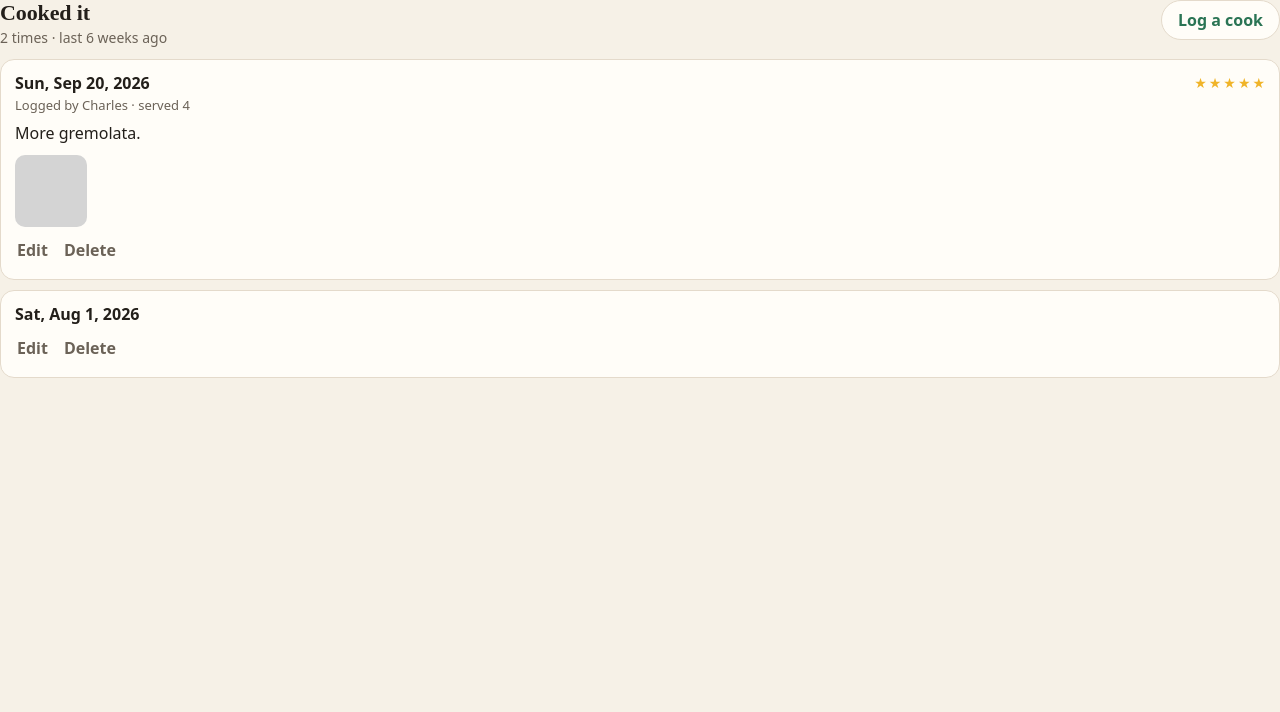
Test case: CookLog › logs a cook for today at the scaled servings by default, with a rating and notes
Step 1. Click the button "Log a cook" → (1220,20), box [1161,0,1279,40]
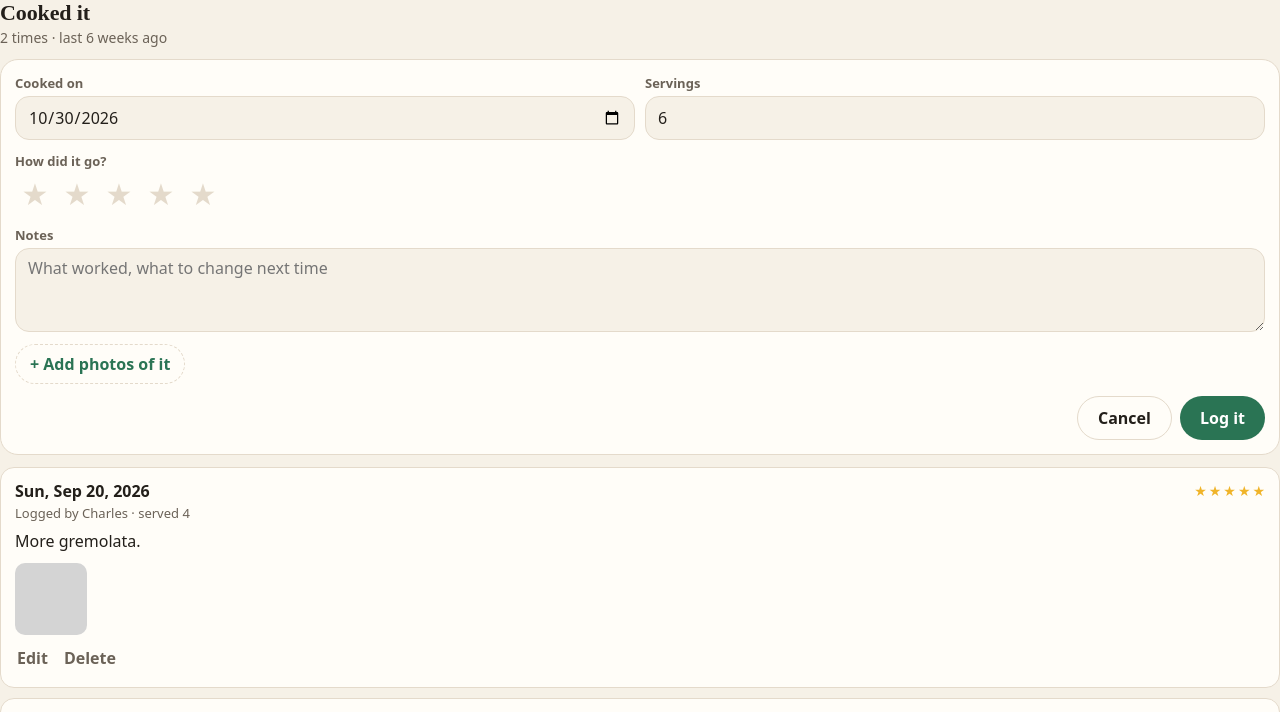
Expected: the number field labelled "Servings" holds "6", [645,96,1265,140]
Step 2. Click the button named "4 stars" → (161,194), box [141,174,181,214]
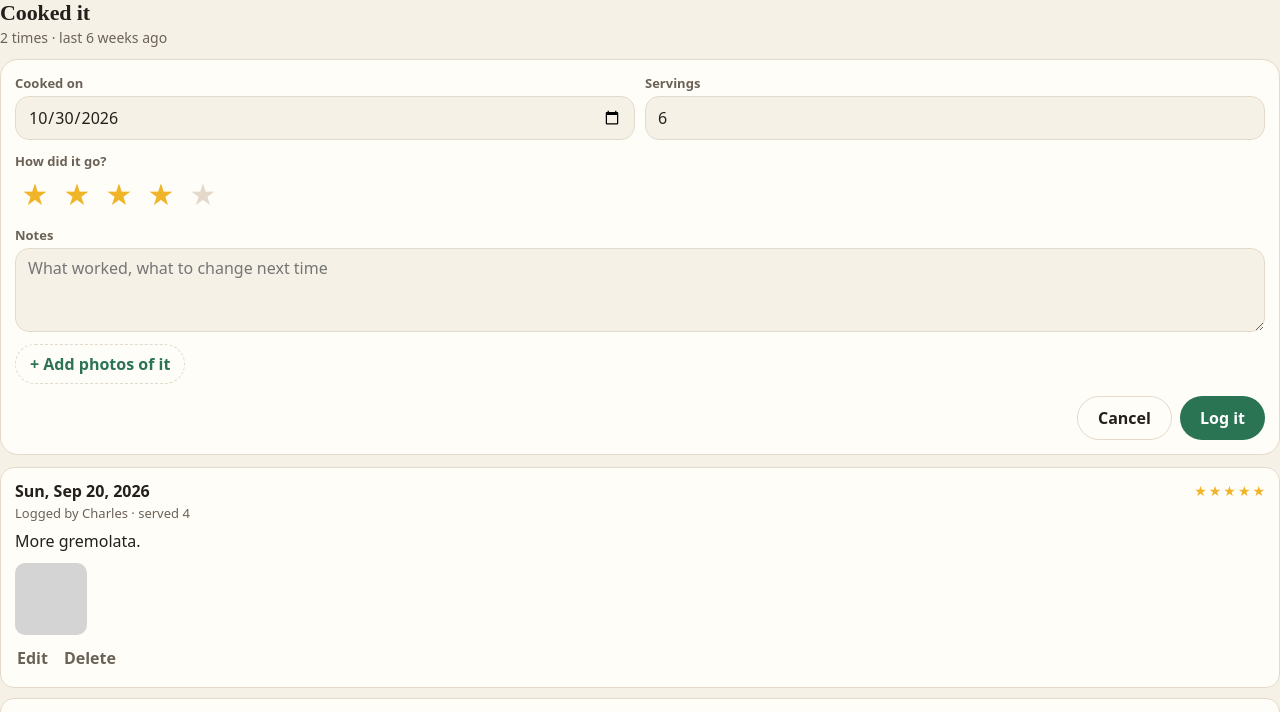
Step 3. Type " Less salt " into the text box labelled "Notes" → (640,290), box [15,248,1265,332]
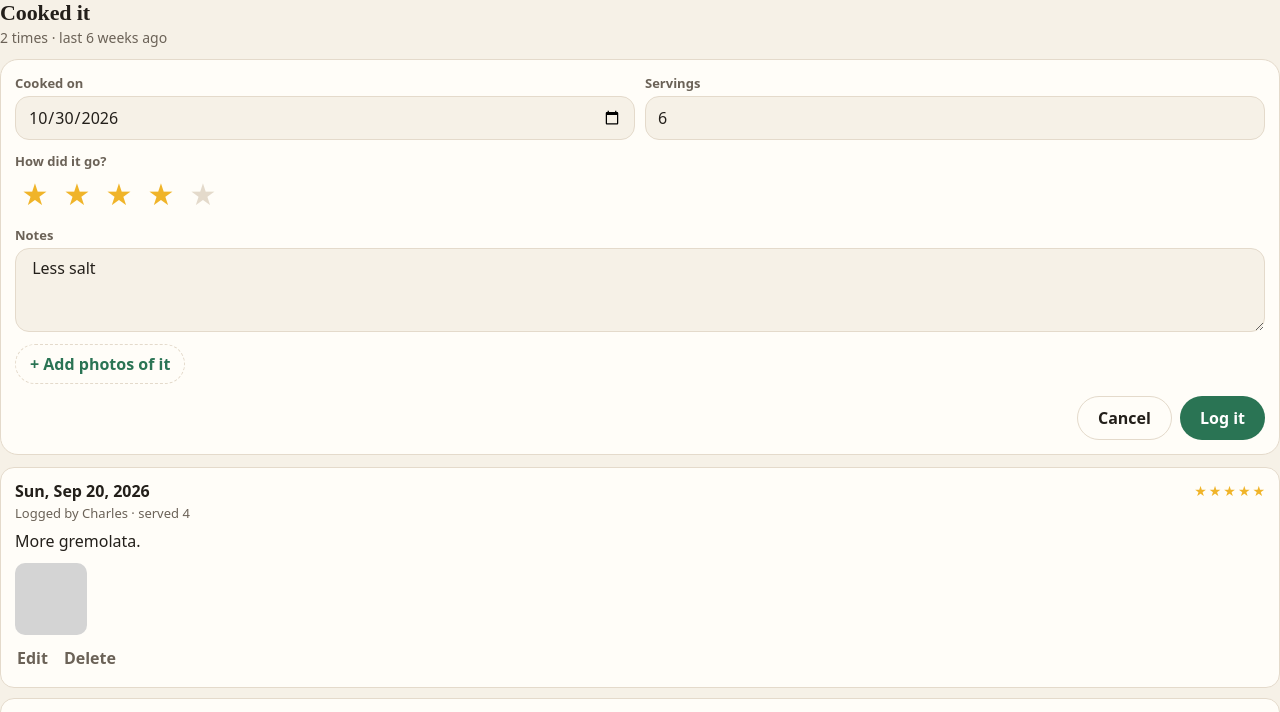
Step 4. Click the button "Log it" → (1222,418), box [1180,396,1265,440]
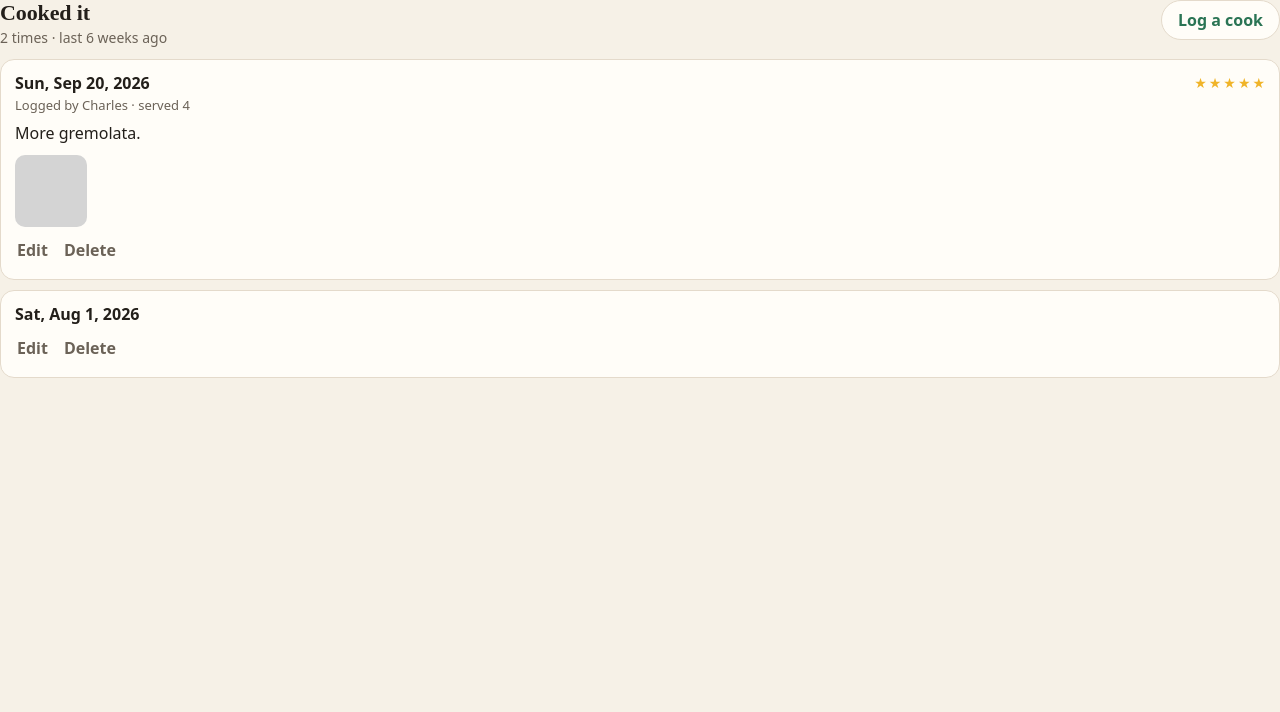
Expected: the button "Log it" is gone
